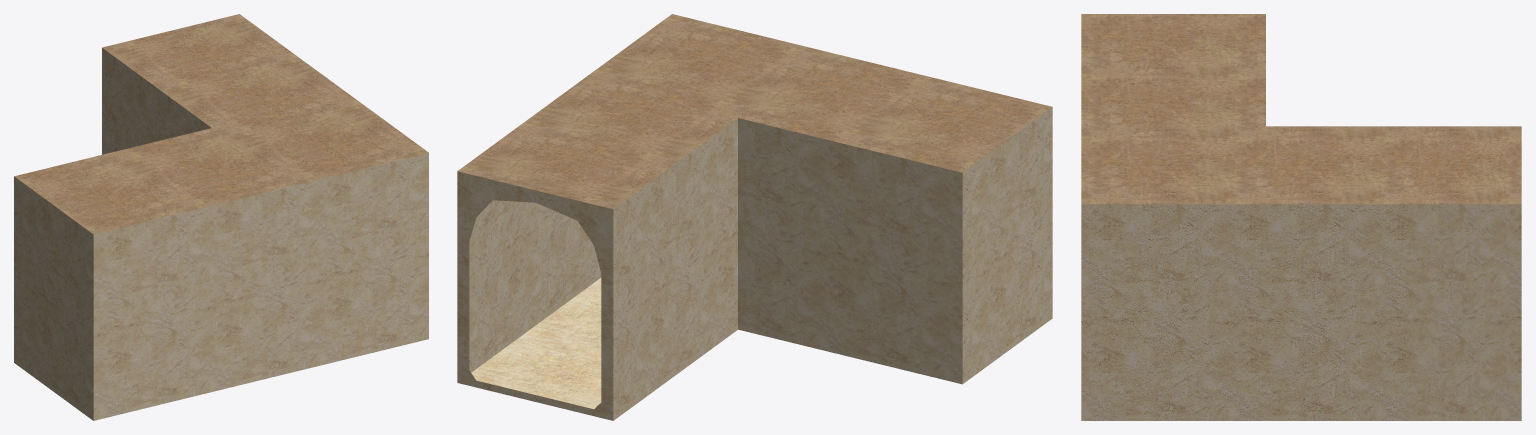
Rendered from thm_tato_block_bldg_64x16_s02_r3_spawnc_mesh_spawnc.fbx.
The picture shows the model from 3 angles, left to right: view 1: azimuth 30°, elevation 25°; view 2: azimuth 150°, elevation 25°; view 3: azimuth 270°, elevation 25°; orthographic projection. The views are drawn at different scales.
Parts seen in each view (by area): view 1: mesh_node; view 2: mesh_node; view 3: mesh_node.
Part boxes in pixels (<box>): mesh_node: <box>14,14,428,420</box>; mesh_node: <box>457,14,1052,420</box>; mesh_node: <box>1081,14,1521,420</box>.
Bounding box in the file's own units: 6.11 × 3.25 × 5.98.
